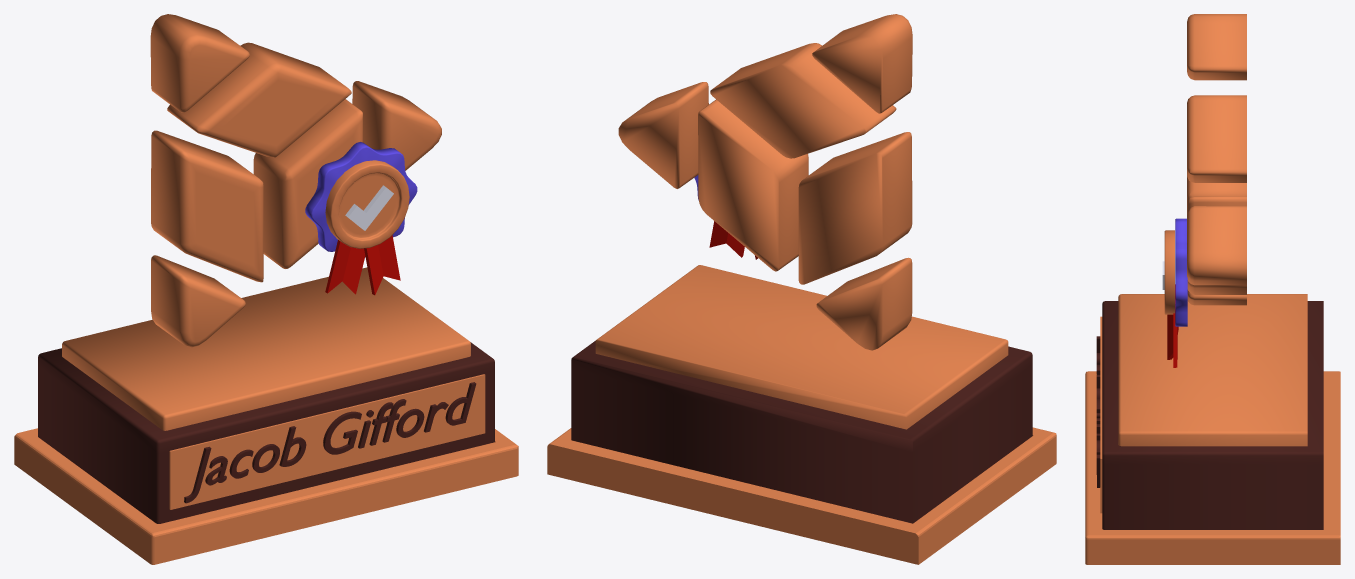
The model's file is trophy.glb.
3 views of the same model, side by side, from view 1: azimuth 30°, elevation 25°; view 2: azimuth 150°, elevation 25°; view 3: azimuth 270°, elevation 25° (orthographic). The views are drawn at different scales.
Visible parts, largest first — view 1: goldLogo, goldBase.001, goldBase, goldPlate, Plane, Plane.001, Plane.002, Text, goldBadge, Circle, Plane.006, Plane.005; view 2: goldLogo, goldBase.001, Plane.001, goldBase, Plane, Plane.002; view 3: goldBase.001, goldLogo, goldBase, Plane.001, Plane, Plane.002, Circle, goldBadge, Text, Plane.006, goldPlate.001.
Boxes of the visible parts, x1,y1,x2,y2 form: goldLogo: (150,14,441,347); goldBase.001: (62,267,470,430); goldBase: (14,428,518,564); goldPlate: (169,375,485,509); Plane: (38,342,494,453); Plane.001: (38,366,494,511); Plane.002: (38,425,494,523); Text: (184,382,476,503); goldBadge: (325,160,409,248); Circle: (305,142,417,257); Plane.006: (325,235,400,295); Plane.005: (345,185,393,230); goldLogo: (618,14,912,350); goldBase.001: (595,265,1008,429); Plane.001: (571,364,1032,510); goldBase: (547,427,1056,564); Plane: (571,341,1032,451); Plane.002: (571,423,1032,523); goldBase.001: (1118,294,1307,446); goldLogo: (1187,14,1246,305); goldBase: (1085,371,1340,564); Plane.001: (1102,464,1323,518); Plane: (1102,301,1323,464); Plane.002: (1102,518,1323,529); Circle: (1175,218,1187,326); goldBadge: (1164,230,1174,314); Text: (1096,336,1100,487); Plane.006: (1167,284,1178,367); goldPlate.001: (1100,316,1102,458).
Size of the model in its own units: 2.64 by 3.17 by 1.71.
